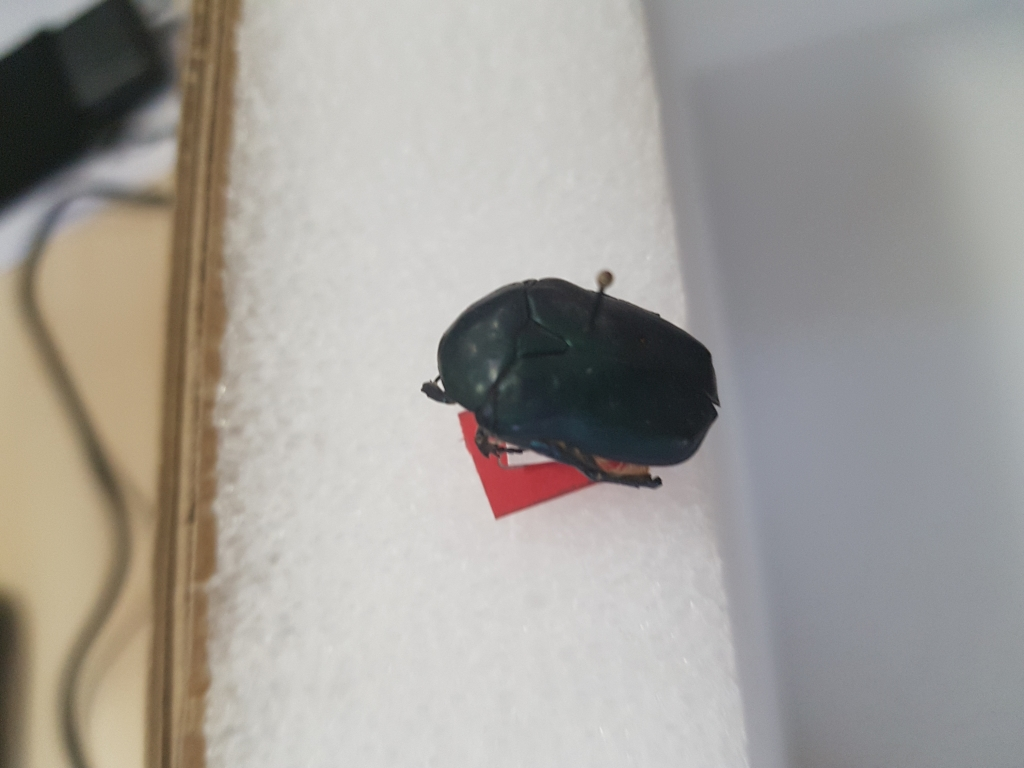Protaetia_afflicta: (413, 259, 732, 503)
